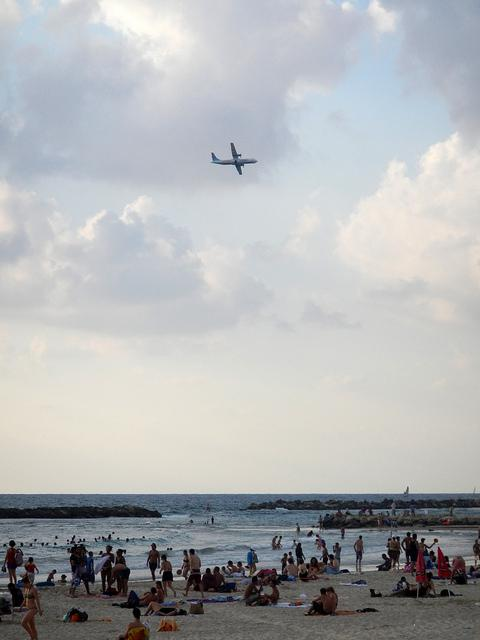airplane: (209, 140, 259, 176)
